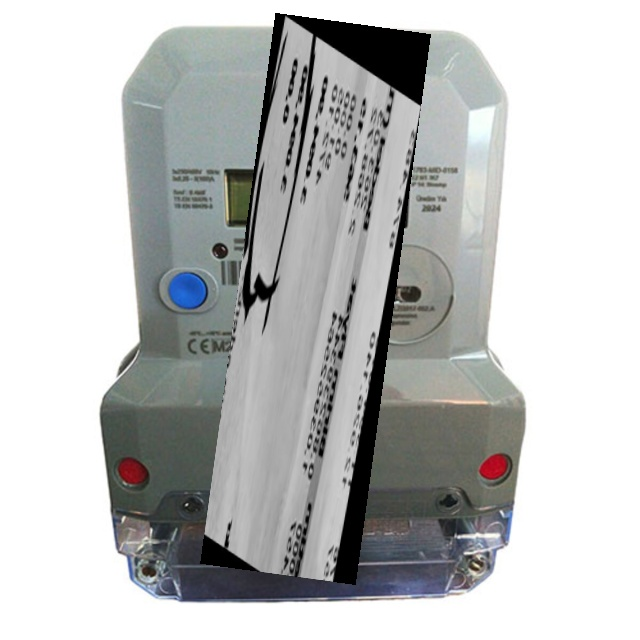electricity-bill: (200, 12, 431, 584)
